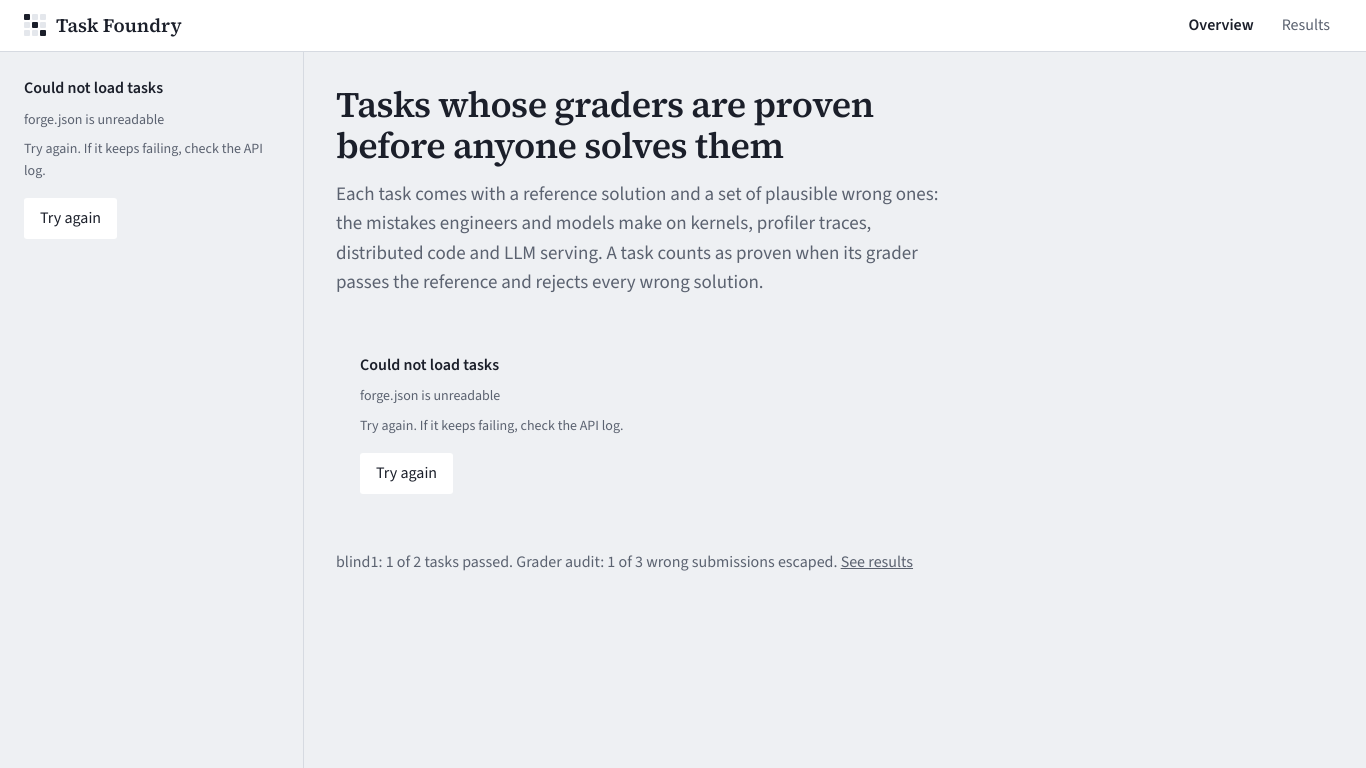
Scenario: overview and rail › explains a failed load and recovers on retry
Expected: the 2nd message shows "Could not load tasks", x1=360 y1=354 x2=624 y2=494
Expected: the 2nd message shows "forge.json is unreadable", x1=360 y1=386 x2=500 y2=405
Step 1. Click the 2nd button "Try again" → (407, 473), box x1=360 y1=453 x2=453 y2=494
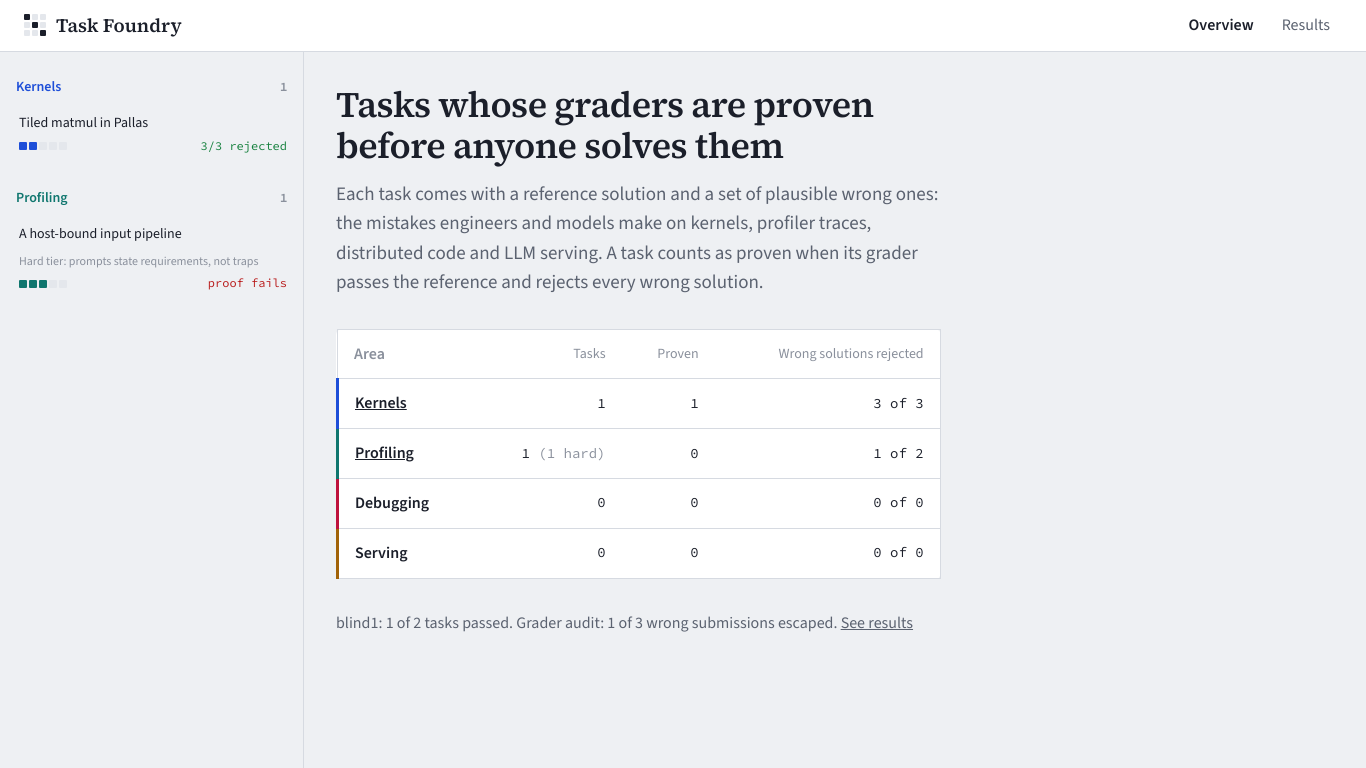
Expected: the navigation bar named "Tasks by area" is shown, x1=0 y1=52 x2=303 y2=325
